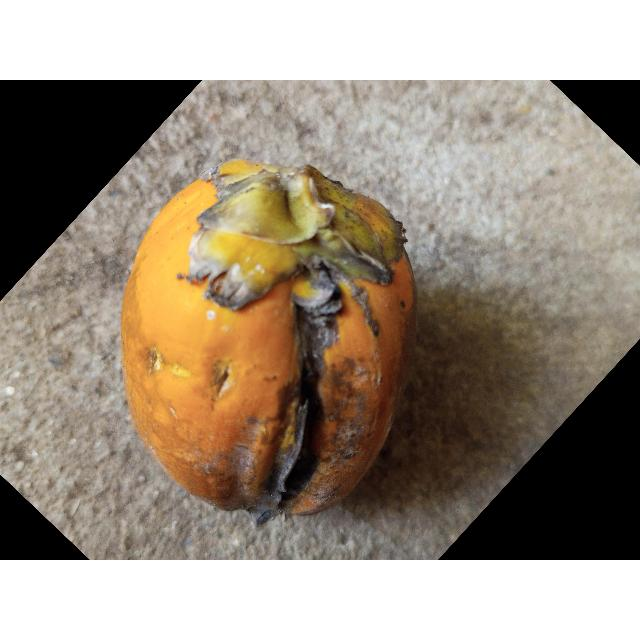damaged: (118, 159, 417, 523)
